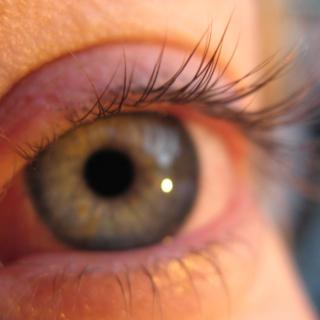pupil: (85, 150, 133, 199)
